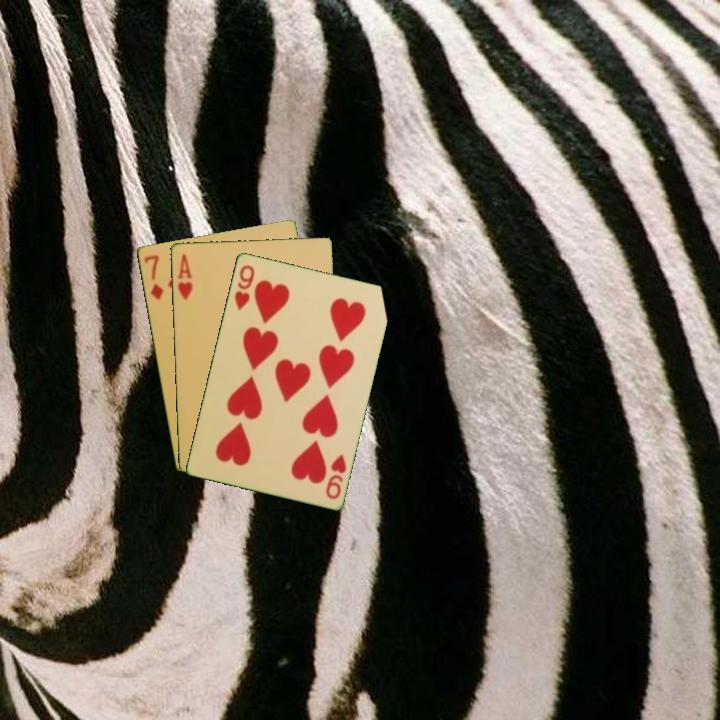7d: (140, 251, 166, 303)
9h: (322, 450, 349, 502), (231, 261, 257, 313)
Ah: (173, 250, 195, 303)
